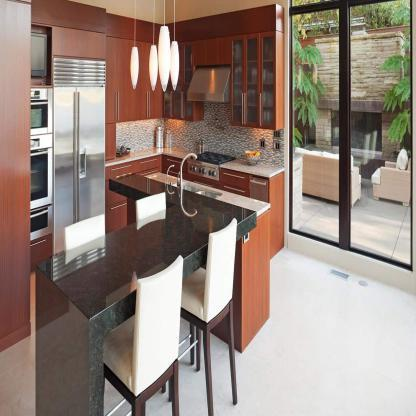chair: (187, 218, 257, 413), (102, 254, 185, 416), (297, 149, 364, 208), (53, 208, 113, 258), (367, 152, 416, 212)
light: (158, 0, 174, 95), (127, 0, 140, 94), (173, 0, 183, 101), (148, 0, 157, 102)
table: (26, 192, 264, 416)
